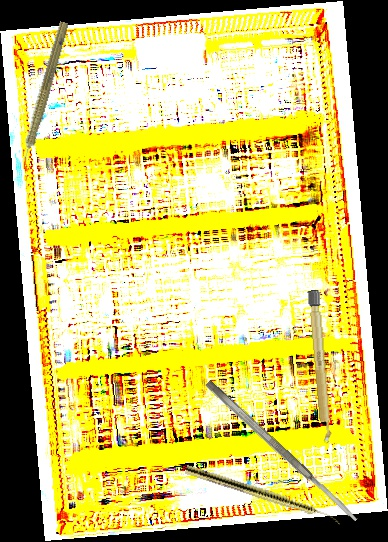Handpiece: (184, 464, 343, 526), (12, 19, 72, 171)
Scalpel Handle: (307, 289, 333, 445)
Spatula Surgical: (204, 378, 360, 525)
